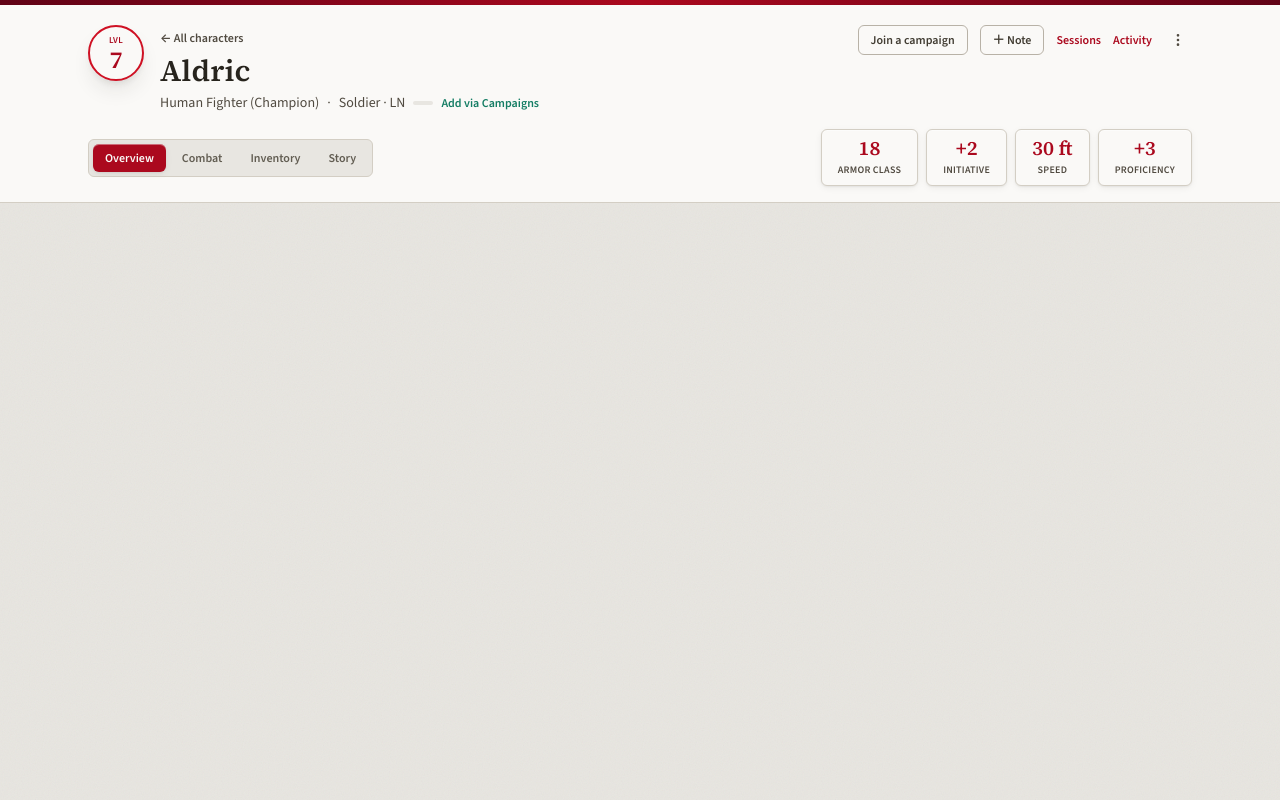
Test: CharacterSheetHeader desktop Preferences entry (#1167) › omits the Campaign settings cross-link inside desktop Preferences for a campaign-less character
Click the button named "sheet actions".
click(1178, 40)  # box [1164,26,1192,54]
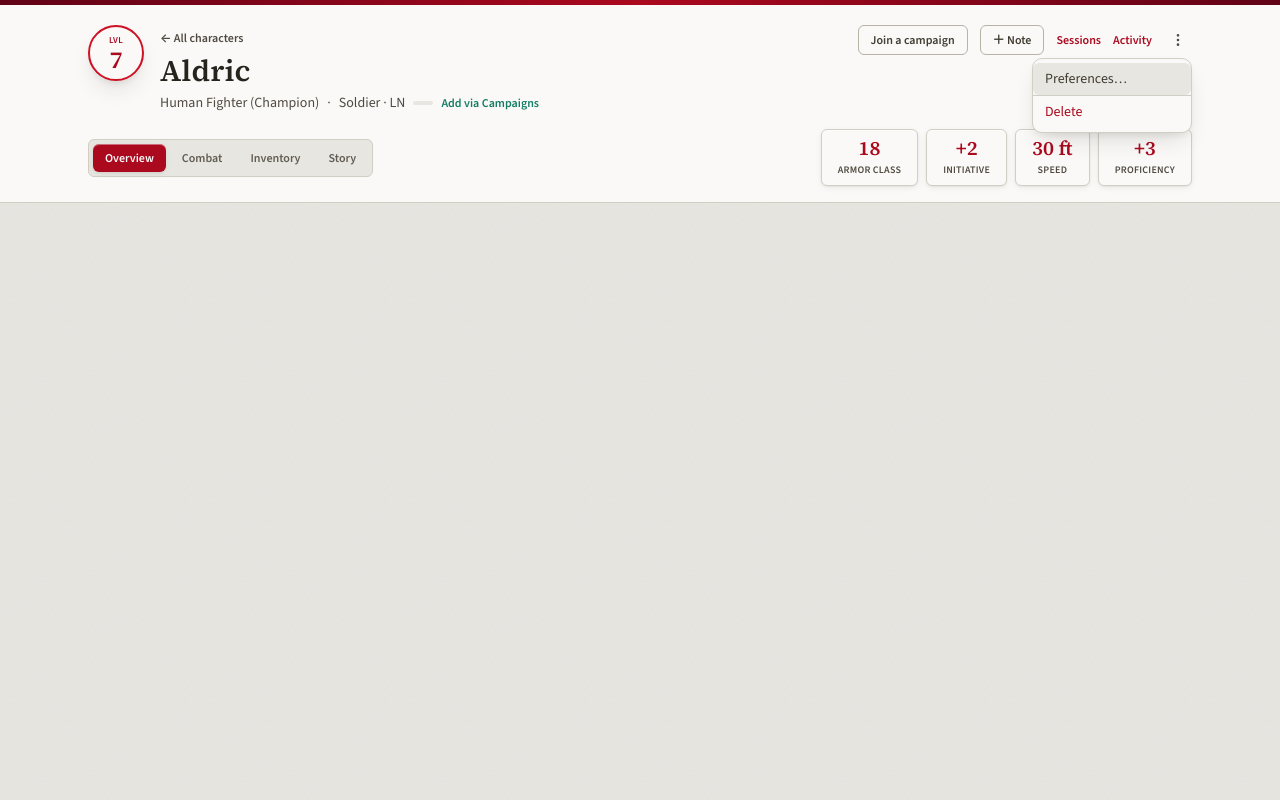
Click the menu item "Preferences…".
click(1112, 79)  # box [1033,63,1191,95]
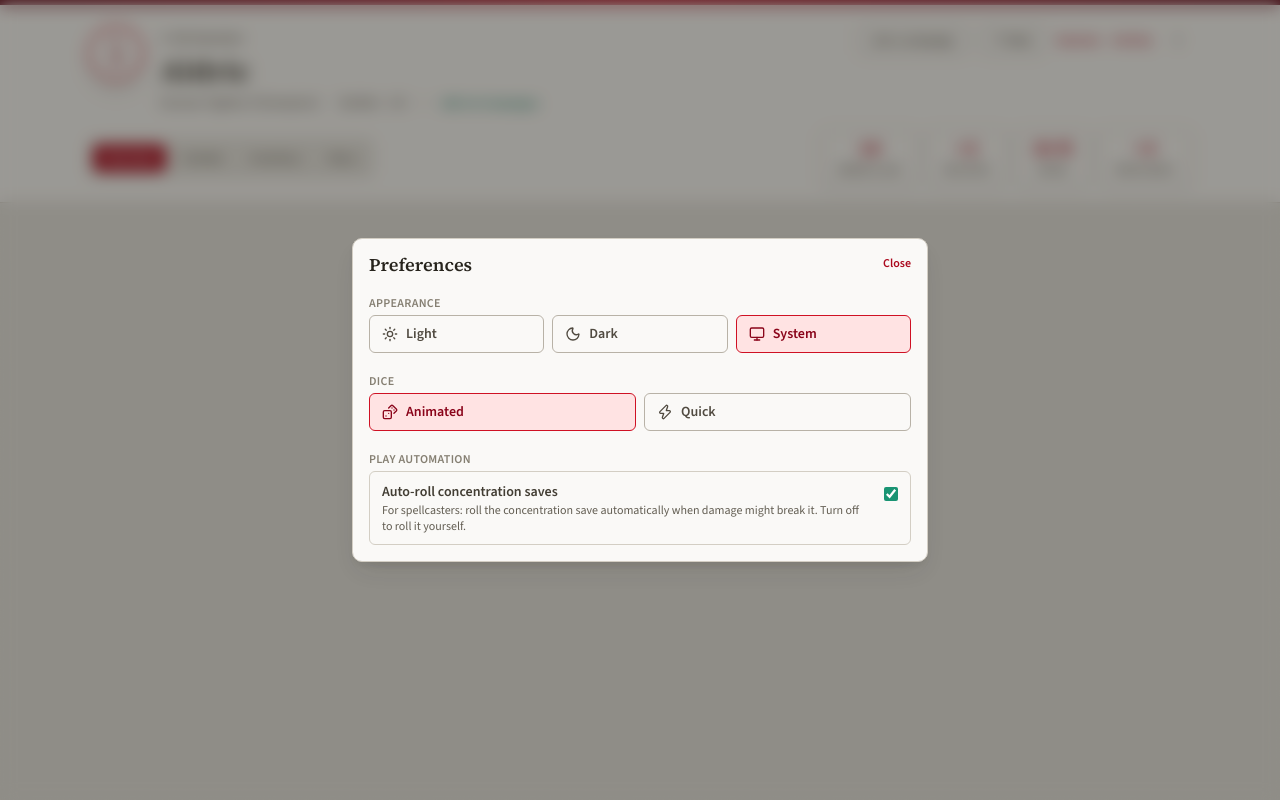
Check: the dialog "Preferences" is shown, box [352,238,928,562]
